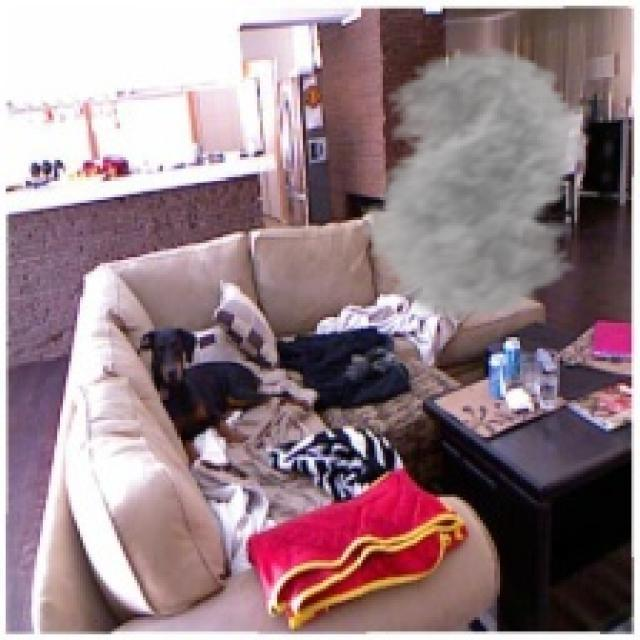Smoke: (340, 46, 620, 323)
